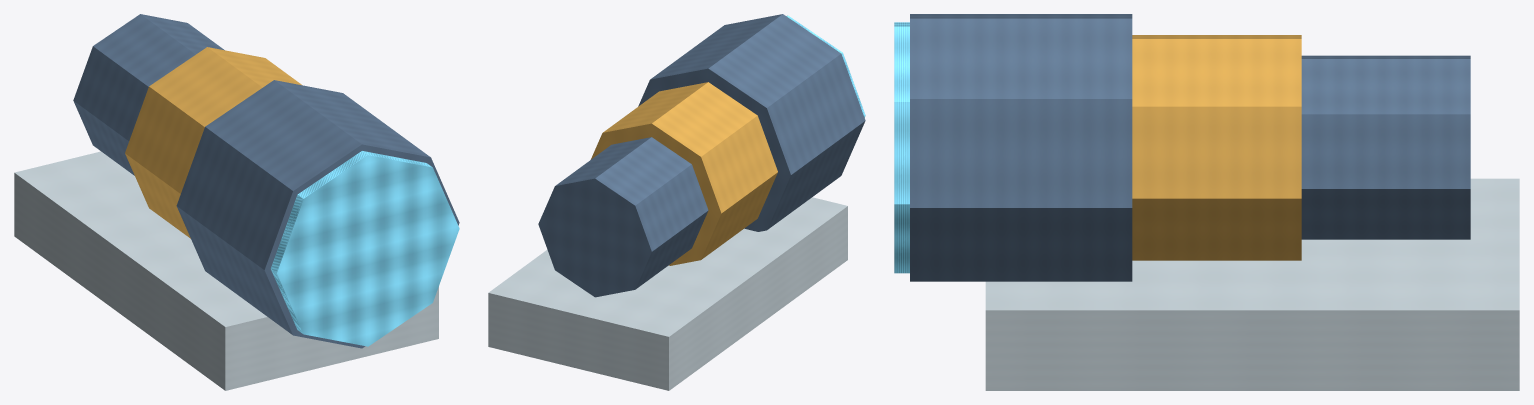
Rendered from atlas100-s053-a05.glb.
3 views of the same model, side by side, from view 1: azimuth 30°, elevation 25°; view 2: azimuth 150°, elevation 25°; view 3: azimuth 270°, elevation 25° (orthographic). The views are drawn at different scales.
Parts seen in each view (by area): view 1: atlas100-s053-a05:part-004, atlas100-s053-a05:part-002, atlas100-s053-a05:part-003, atlas100-s053-a05:part-001, atlas100-s053-a05:part-000; view 2: atlas100-s053-a05:part-004, atlas100-s053-a05:part-002, atlas100-s053-a05:part-000, atlas100-s053-a05:part-001; view 3: atlas100-s053-a05:part-004, atlas100-s053-a05:part-002, atlas100-s053-a05:part-001, atlas100-s053-a05:part-000, atlas100-s053-a05:part-003.
Part boxes in pixels (x1,y1,x2,y2): atlas100-s053-a05:part-004: (14,151,438,390); atlas100-s053-a05:part-002: (176,80,459,348); atlas100-s053-a05:part-003: (270,151,459,346); atlas100-s053-a05:part-001: (125,47,301,238); atlas100-s053-a05:part-000: (73,14,224,175); atlas100-s053-a05:part-004: (488,197,847,390); atlas100-s053-a05:part-002: (638,14,865,231); atlas100-s053-a05:part-000: (538,137,708,297); atlas100-s053-a05:part-001: (590,82,777,265); atlas100-s053-a05:part-004: (985,178,1519,390); atlas100-s053-a05:part-002: (910,14,1132,281); atlas100-s053-a05:part-001: (1132,35,1301,260); atlas100-s053-a05:part-000: (1301,55,1470,239); atlas100-s053-a05:part-003: (894,22,909,273).
Size of the model in its own units: 0.3822 by 0.415 by 0.7671.
Materials: 4 (4 with a texture image).
